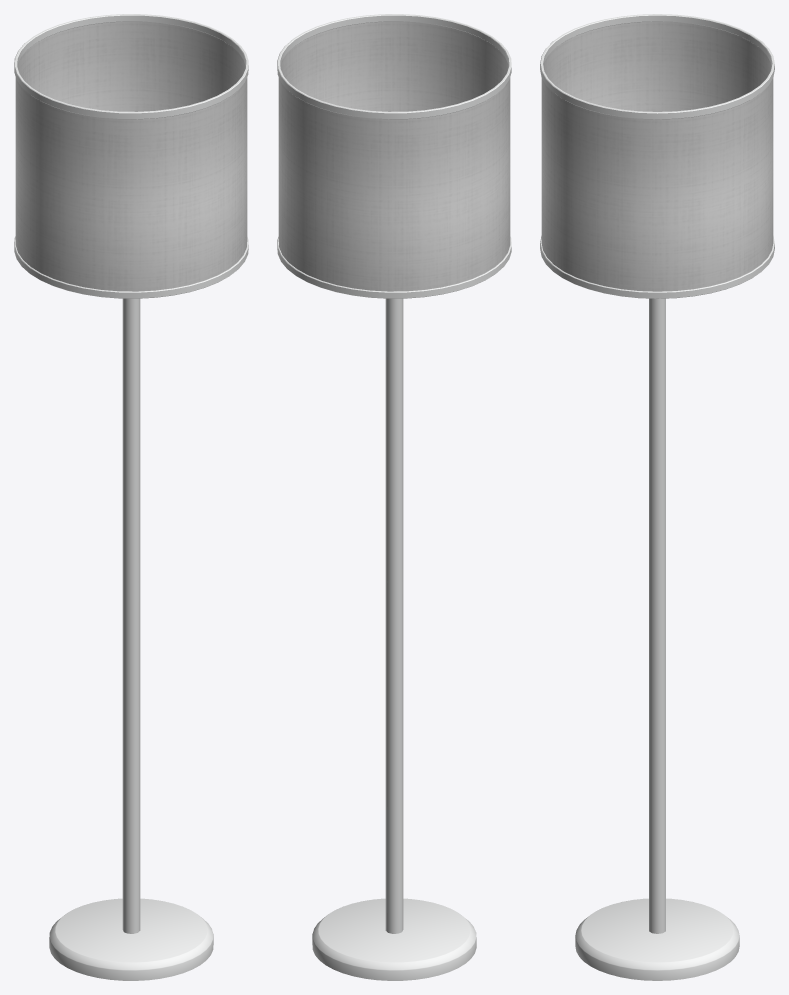
3 renders of one model, left to right at view 1: azimuth 30°, elevation 25°; view 2: azimuth 150°, elevation 25°; view 3: azimuth 270°, elevation 25°, orthographic.
Visible parts, largest first — view 1: lamp; view 2: lamp; view 3: lamp.
Boxes of the visible parts, x1=… form: lamp: x1=14, y1=14, x2=248, y2=980; lamp: x1=277, y1=14, x2=511, y2=980; lamp: x1=540, y1=14, x2=774, y2=980.
Bounding box in the file's own units: 40.01 × 166 × 40.01.
Materials: 2 (2 with a texture image).
